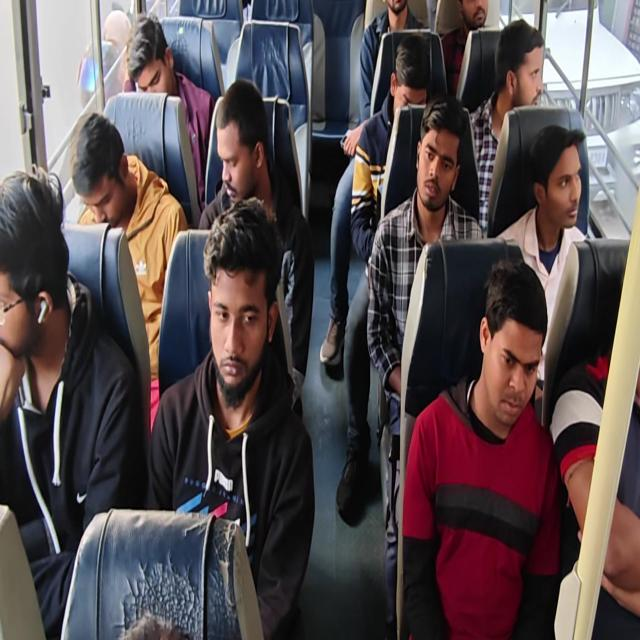person: (0, 179, 66, 360), (205, 228, 271, 394), (480, 280, 541, 453), (66, 119, 123, 223), (214, 96, 260, 194), (538, 147, 586, 225), (501, 33, 548, 107), (127, 22, 172, 88), (421, 122, 452, 208), (392, 42, 426, 120), (459, 0, 493, 33), (375, 0, 417, 24)
